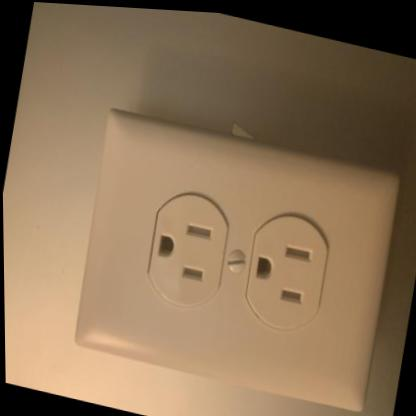OUTLET: (65, 99, 409, 416)
